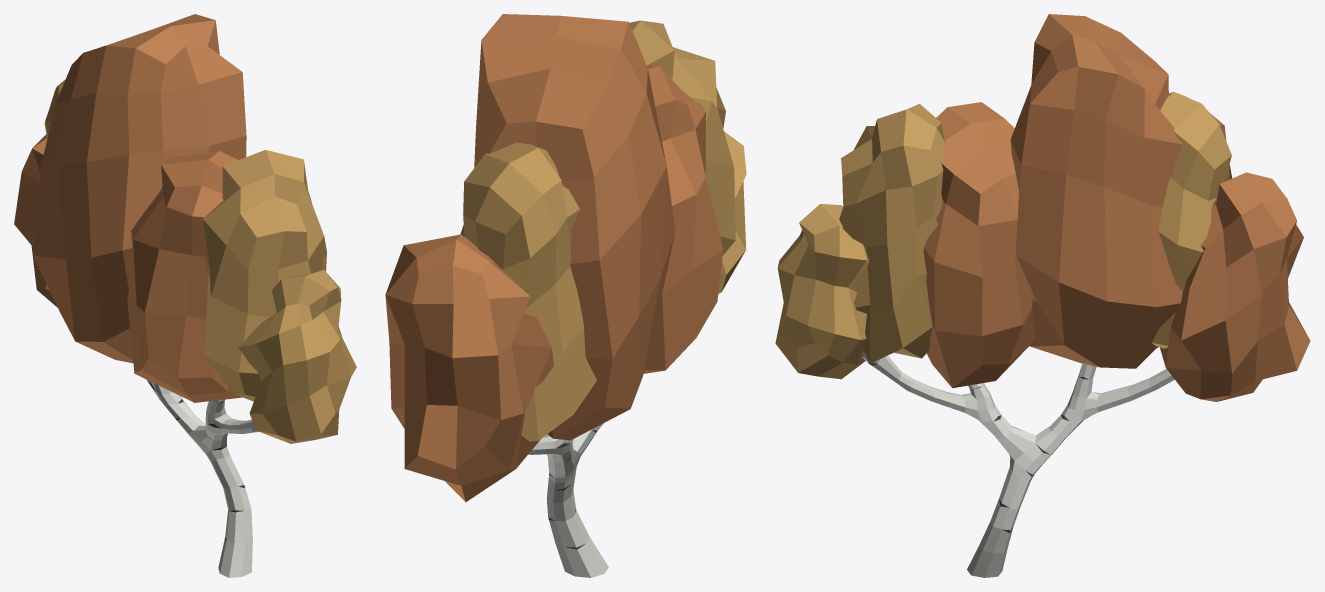
Rendered from BirchTree_Autumn_4.glb.
3 renders of one model, left to right at view 1: azimuth 30°, elevation 25°; view 2: azimuth 150°, elevation 25°; view 3: azimuth 270°, elevation 25°, orthographic. The views are drawn at different scales.
Parts seen in each view (by area): view 1: BirchTree_Autumn_4; view 2: BirchTree_Autumn_4; view 3: BirchTree_Autumn_4.
Part boxes in pixels (box(x1,y1,x2,y2)): BirchTree_Autumn_4: box(14, 14, 356, 577); BirchTree_Autumn_4: box(385, 14, 746, 577); BirchTree_Autumn_4: box(775, 14, 1310, 577).
Bounding box in the file's own units: 1.15 × 3.56 × 3.29.
